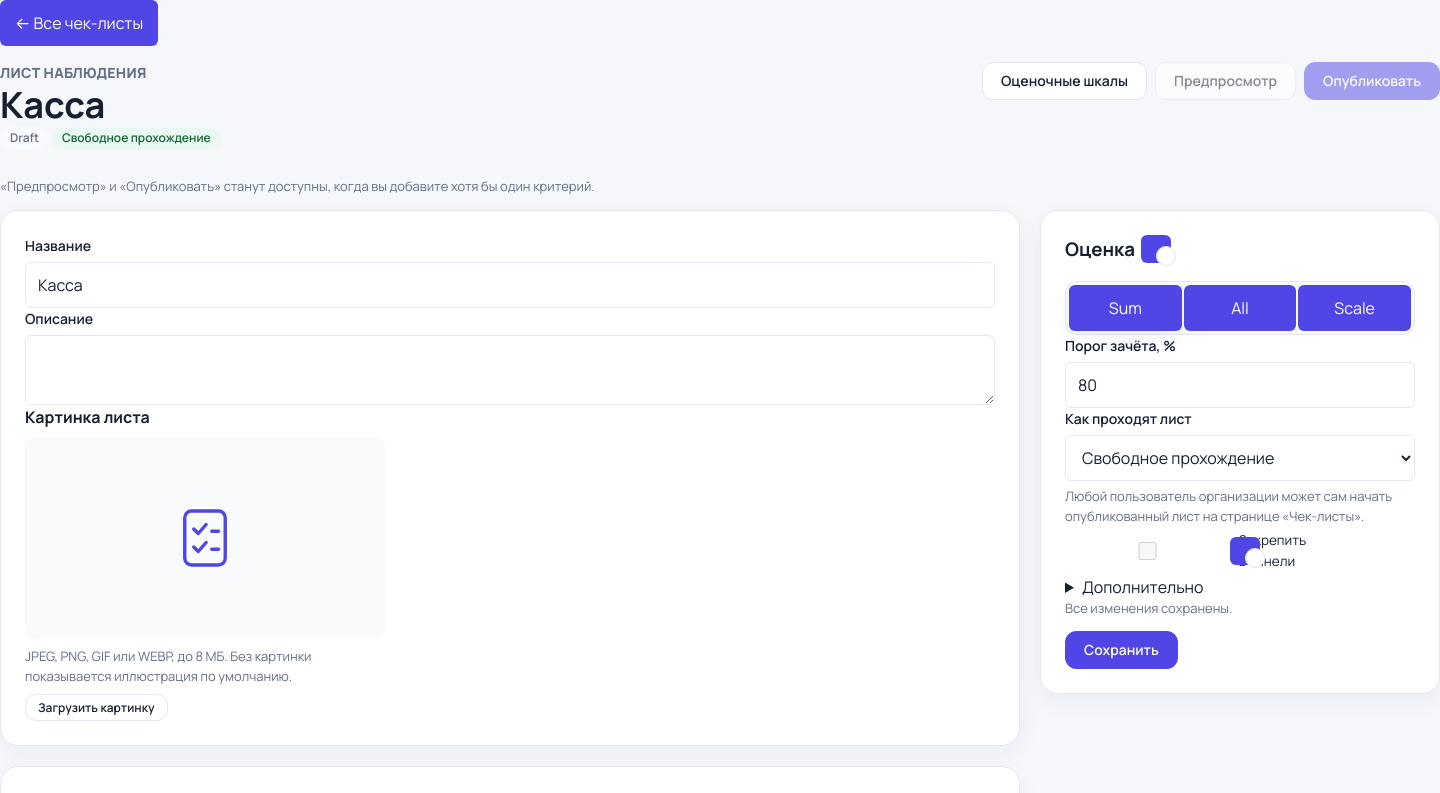
Test case: ChecklistBuilder: access mode (PR 353) › does not report unsaved changes until the mode is changed
The width and height of the screenshot is (1440, 793).
Expected: the text "Есть несохранённые изменения" is not shown
Select "По назначению" in the dropdown with id "checklist-access-mode" at point(1240, 458), box [1065, 436, 1415, 482]
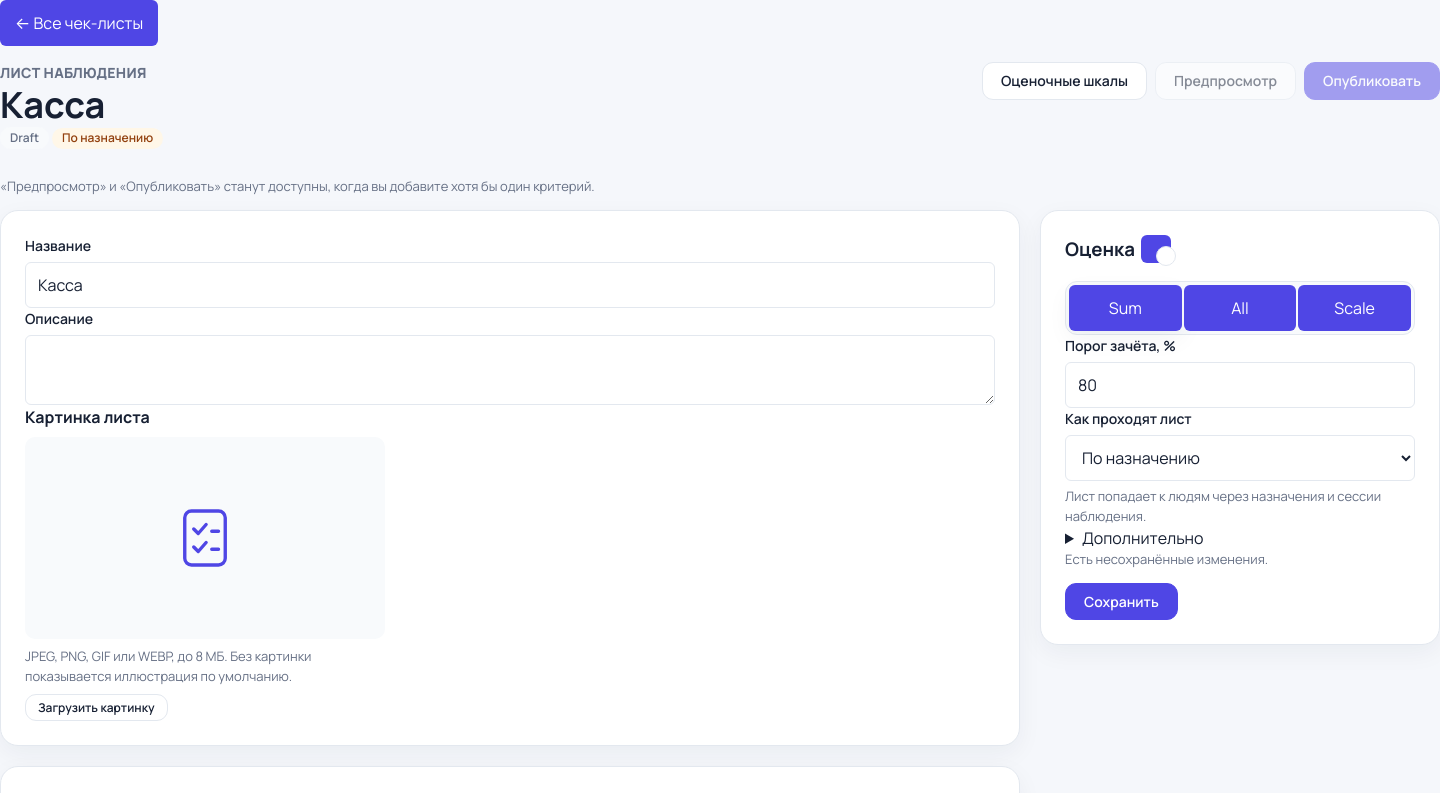
Now the text "Есть несохранённые изменения" is shown, box [1065, 550, 1268, 568]
